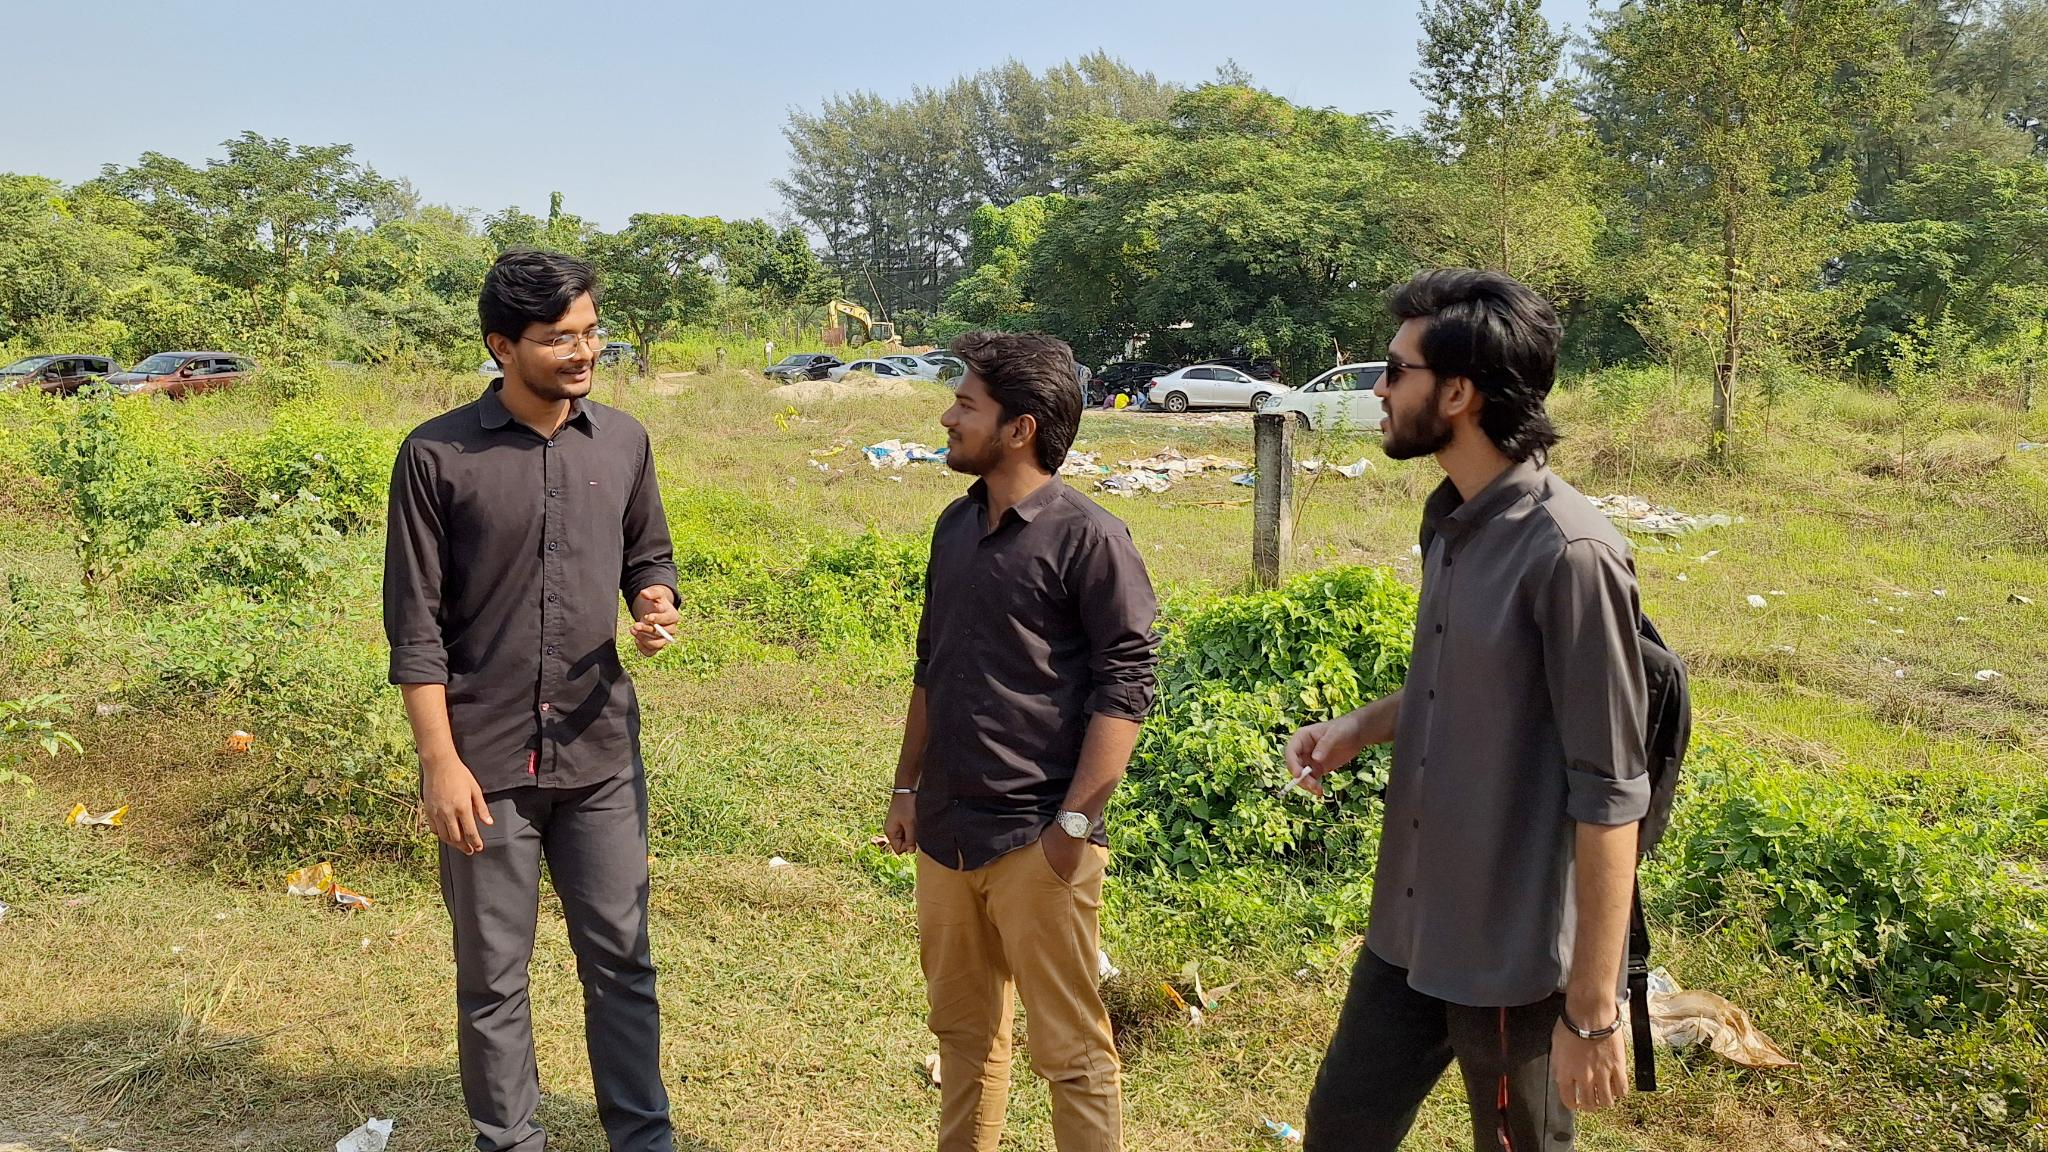cigarette: (1276, 764, 1314, 800), (651, 620, 677, 646)
nonSmoker: (882, 332, 1162, 1152)
smoker: (1284, 266, 1692, 1152), (383, 250, 682, 1152)
